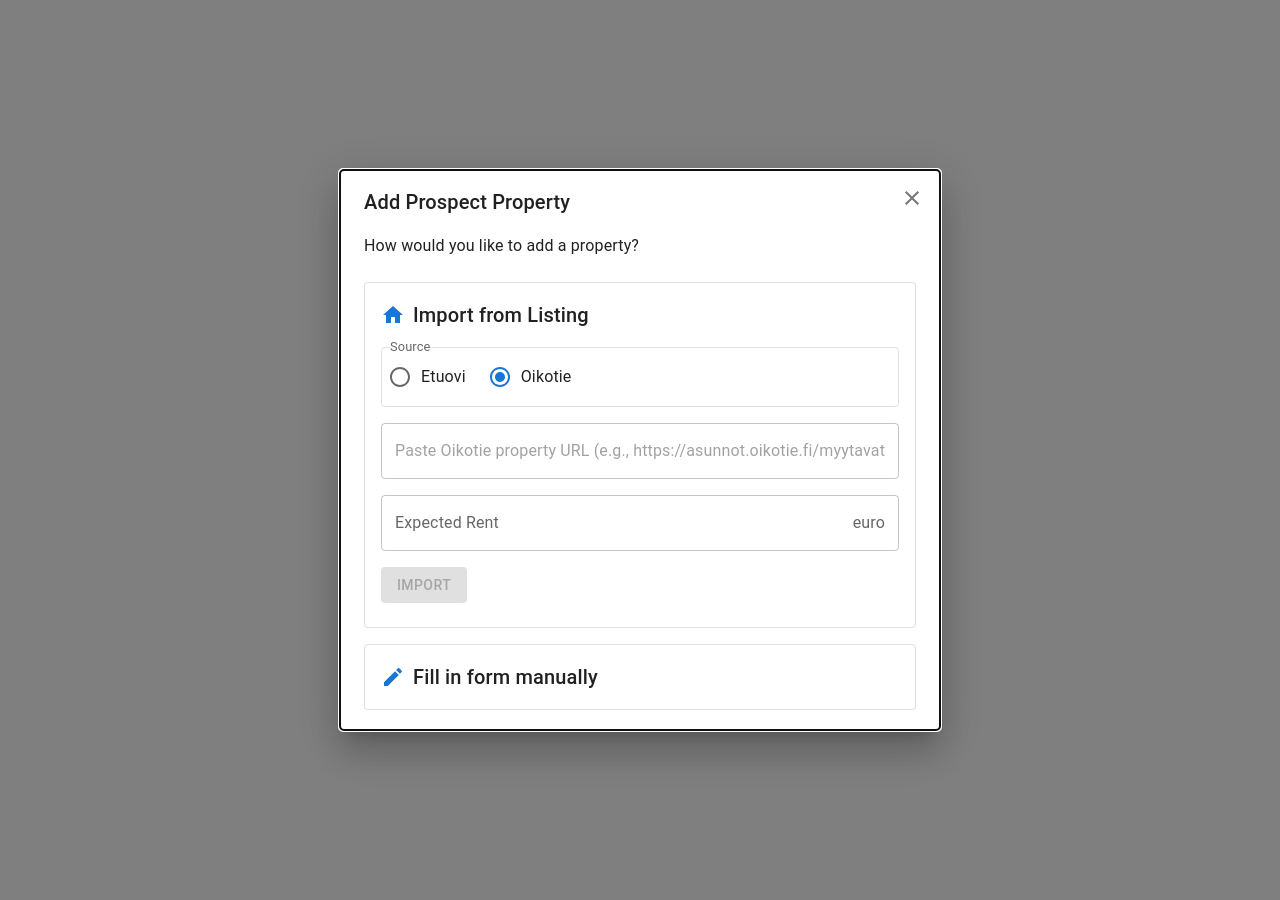
it: ProspectAddChoiceDialog › Etuovi Import › shows error toast on failed Etuovi import
# Switch to Etuovi (Oikotie is default)
Click the radio button labelled "Etuovi" at (427, 377), box left=388, top=365, right=466, bottom=389
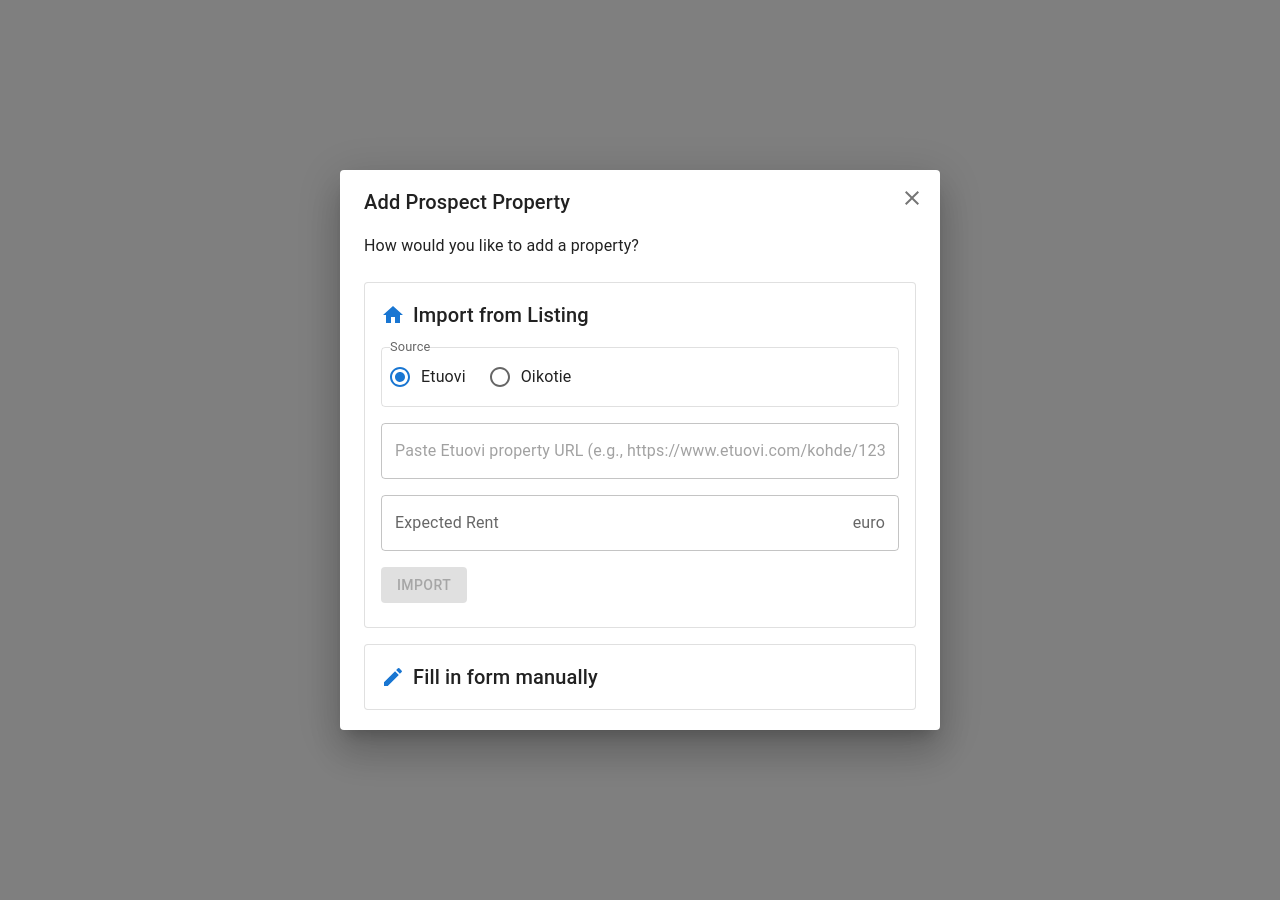
Type "https://www.etuovi.com/kohde/99999" into the field at (640, 451), box left=381, top=423, right=899, bottom=479
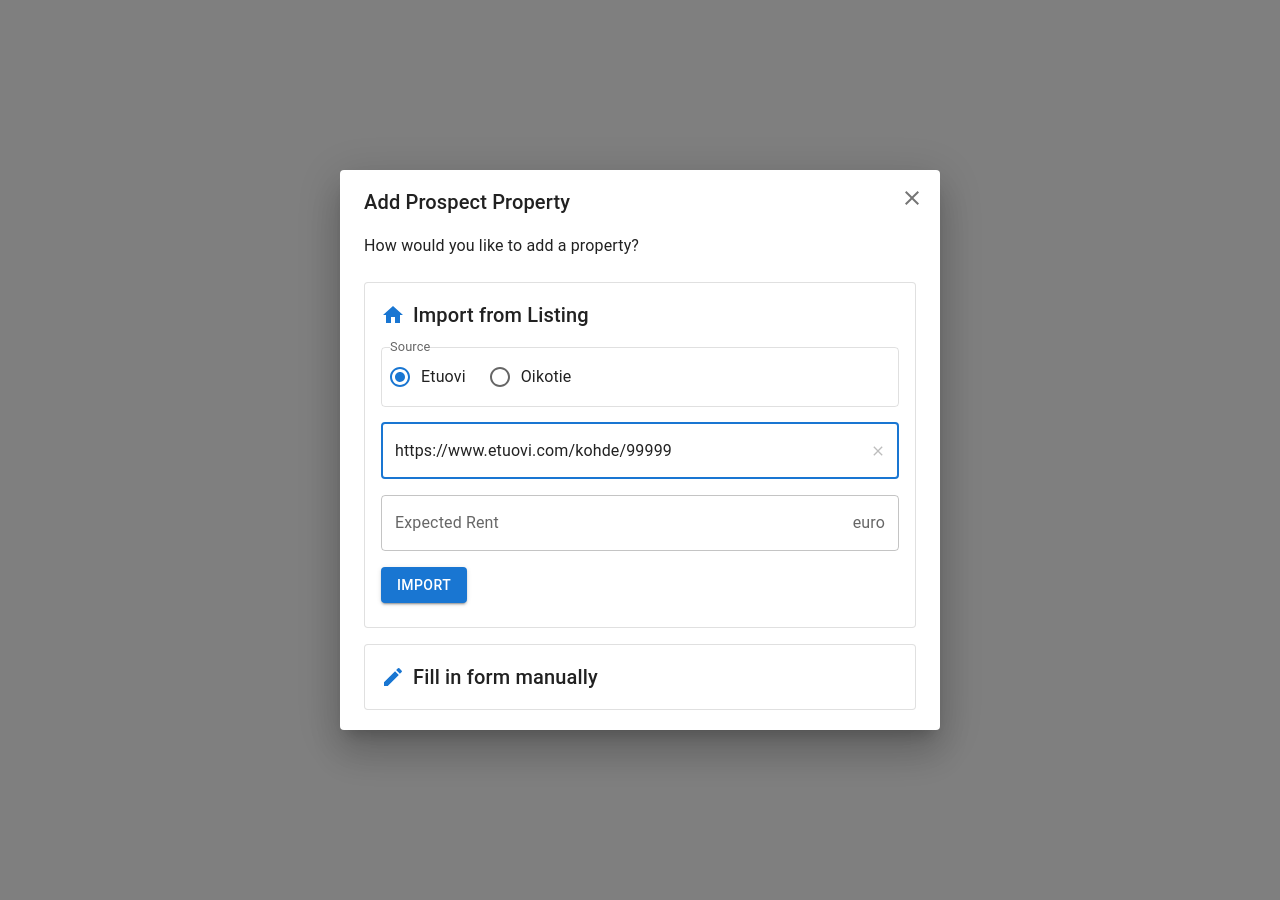
Click the button "Import" at (424, 585), box left=381, top=567, right=467, bottom=603
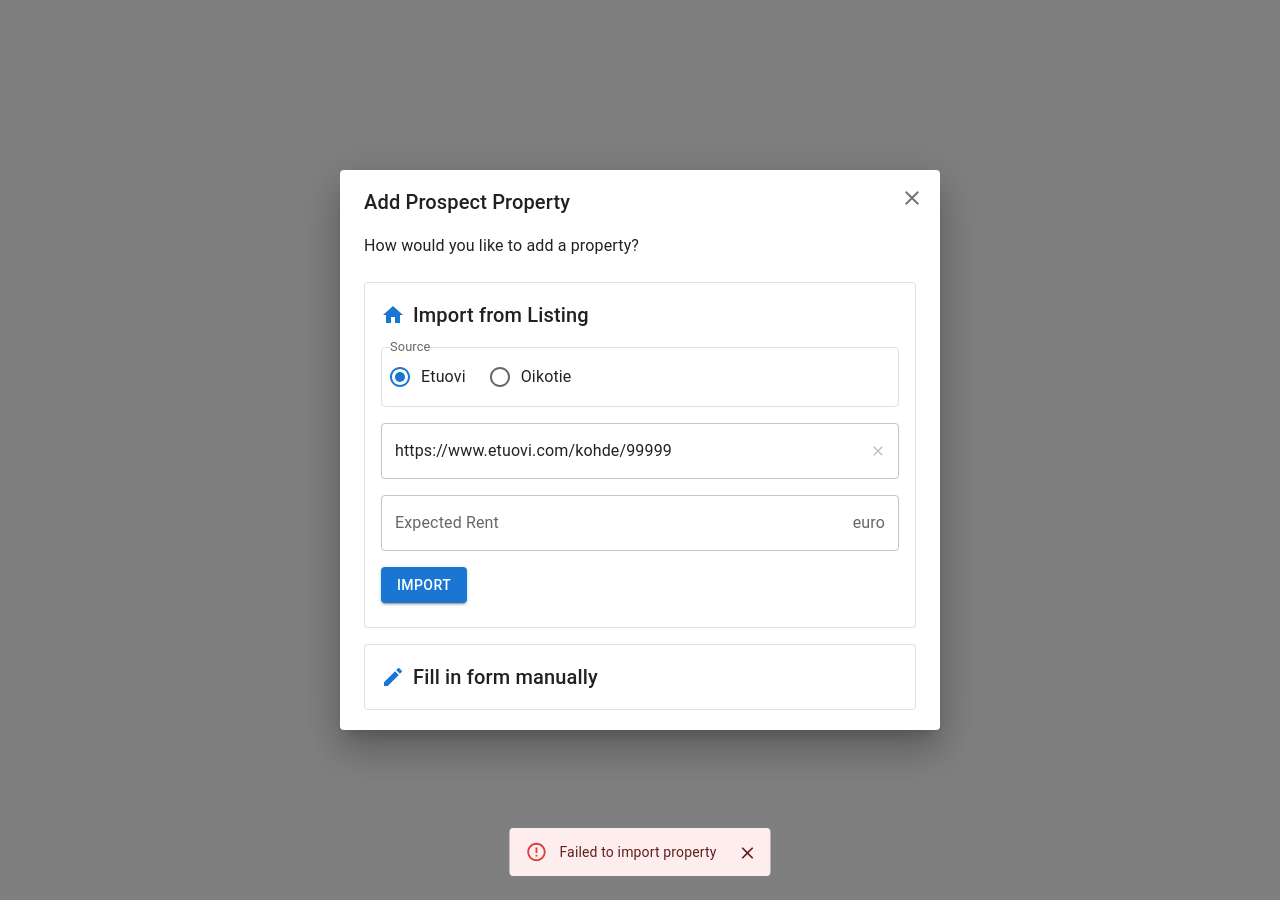
Now the text "Failed to import property" is shown, box left=560, top=844, right=717, bottom=860
